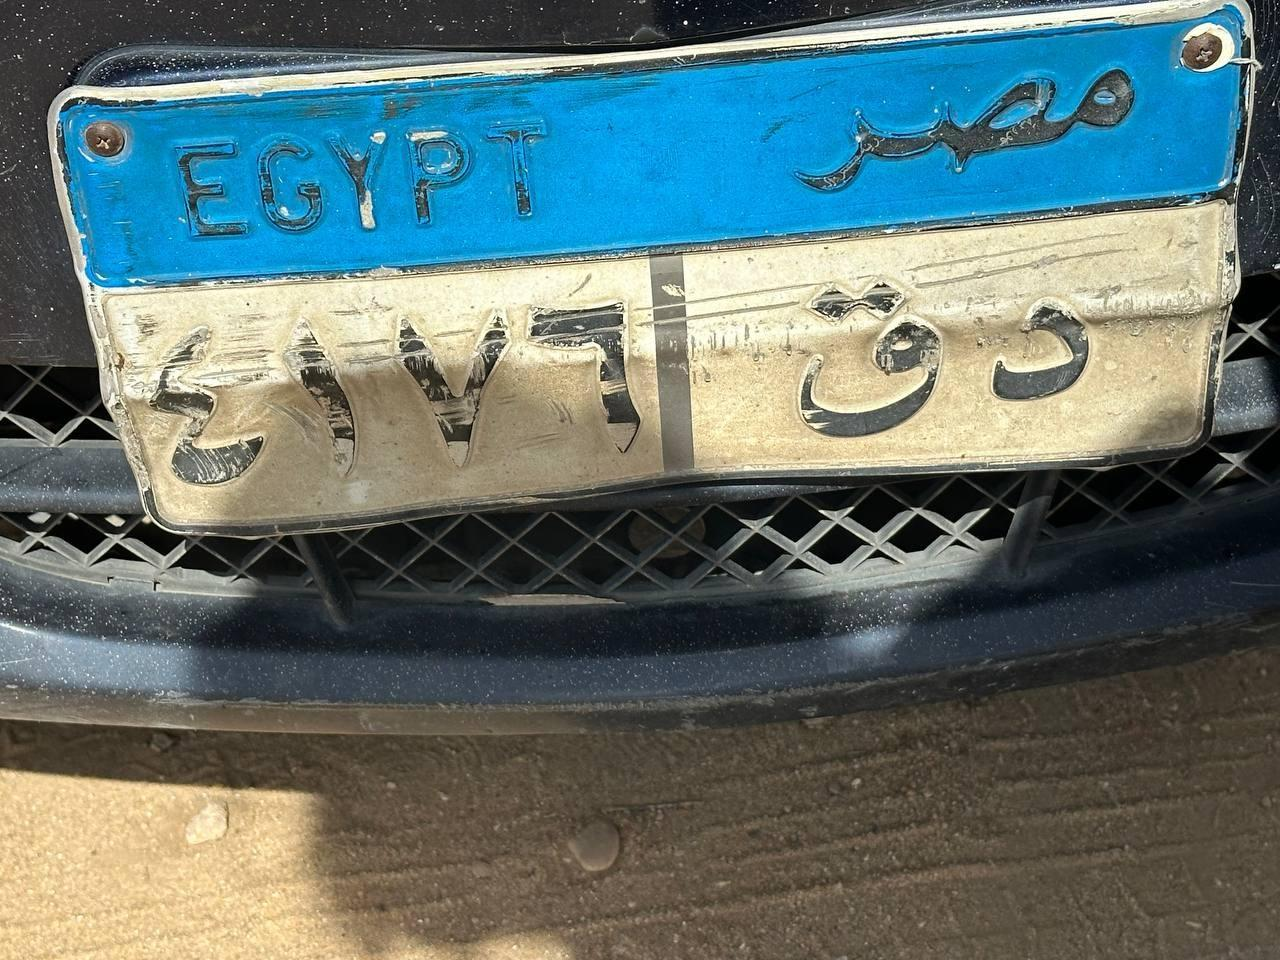1: (274, 312, 378, 482)
4: (134, 332, 266, 490)
6: (528, 290, 646, 460)
7: (390, 296, 521, 464)
License Plate: (45, 0, 1262, 540)
Q: (778, 262, 948, 446)
daal: (986, 299, 1092, 412)
